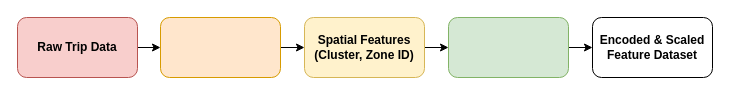
The diagram is 730 pixels wide and 95 high, and some of its shapes have lost their labels. The centre of each missing label's shape, as x and y in pixels:
Contextual Features (Weather, Traffic): the point at 508,47
Temporal Features (Hour, Day, Week): the point at 220,47
